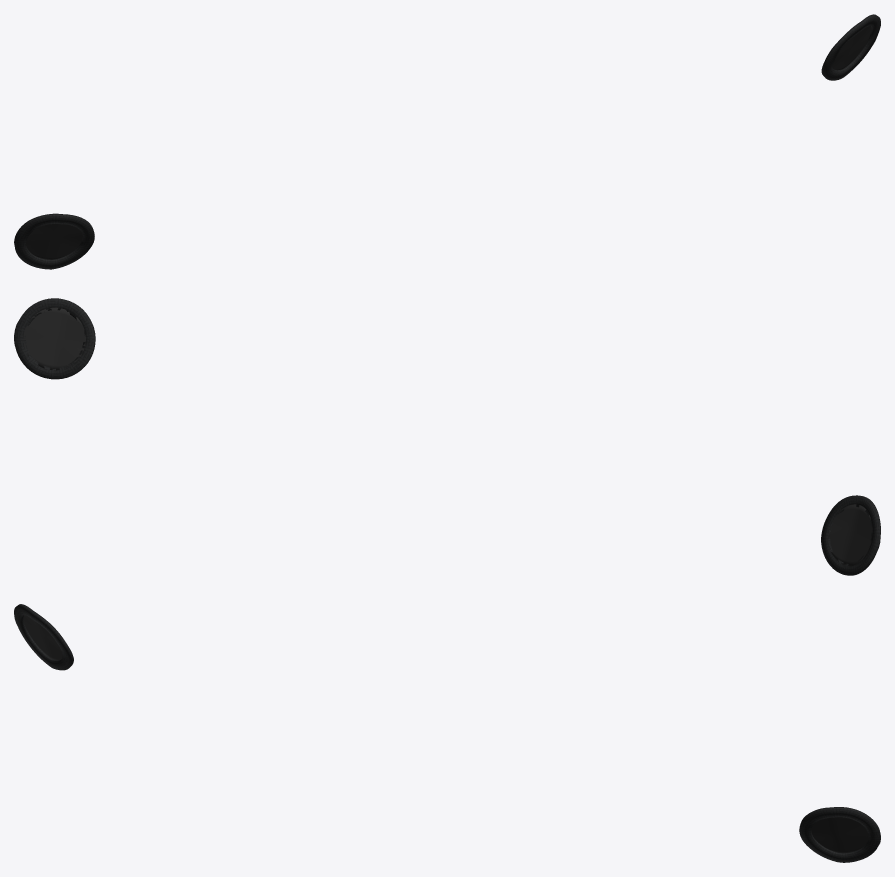
File: DT73_brake_ducts.glb
3 renders of one model, top to bottom at view 1: azimuth 30°, elevation 25°; view 2: azimuth 150°, elevation 25°; view 3: azimuth 330°, elevation 25°, orthographic.
Visible parts, largest first — view 1: MOD_NA_DT73_ring_R, MOD_NA_DT73_mesh_R, MOD_NA_DT73_ring_L, MOD_NA_DT73_mesh_L; view 2: MOD_NA_DT73_mesh_L, MOD_NA_DT73_ring_L, MOD_NA_DT73_mesh_R, MOD_NA_DT73_ring_R; view 3: MOD_NA_DT73_ring_L, MOD_NA_DT73_mesh_L, MOD_NA_DT73_ring_R, MOD_NA_DT73_mesh_R.
Boxes of the visible parts, box(x1,y1,x2,y2) form: MOD_NA_DT73_ring_R: box(14, 213, 94, 269); MOD_NA_DT73_mesh_R: box(26, 224, 82, 259); MOD_NA_DT73_ring_L: box(821, 14, 880, 80); MOD_NA_DT73_mesh_L: box(832, 26, 871, 70); MOD_NA_DT73_mesh_L: box(23, 307, 85, 370); MOD_NA_DT73_ring_L: box(14, 298, 95, 379); MOD_NA_DT73_mesh_R: box(828, 504, 872, 566); MOD_NA_DT73_ring_R: box(821, 495, 880, 575); MOD_NA_DT73_ring_L: box(799, 807, 880, 862); MOD_NA_DT73_mesh_L: box(811, 817, 868, 853); MOD_NA_DT73_ring_R: box(14, 604, 73, 670); MOD_NA_DT73_mesh_R: box(23, 615, 62, 659).
Bounding box in the file's own units: 1.21 × 0.0915 × 0.0606.
Materials: 2 (1 with a texture image).
